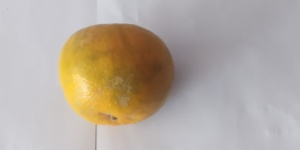BAD: (59, 21, 176, 129)
